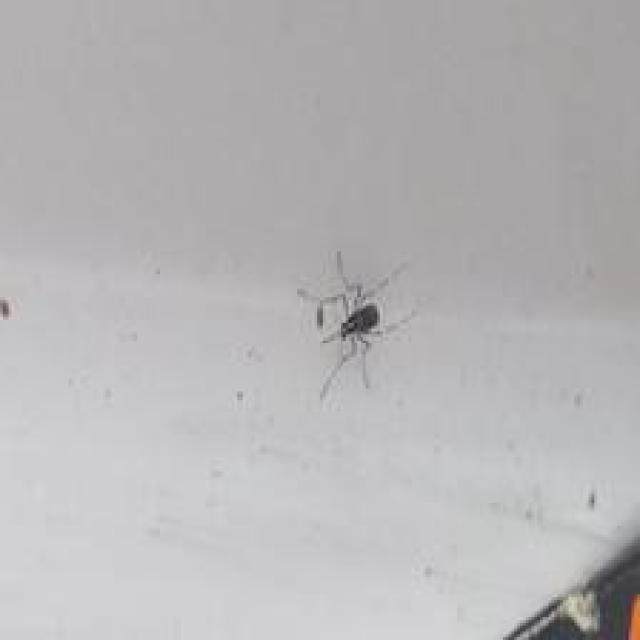Aedes albopictus: (296, 249, 418, 400)
